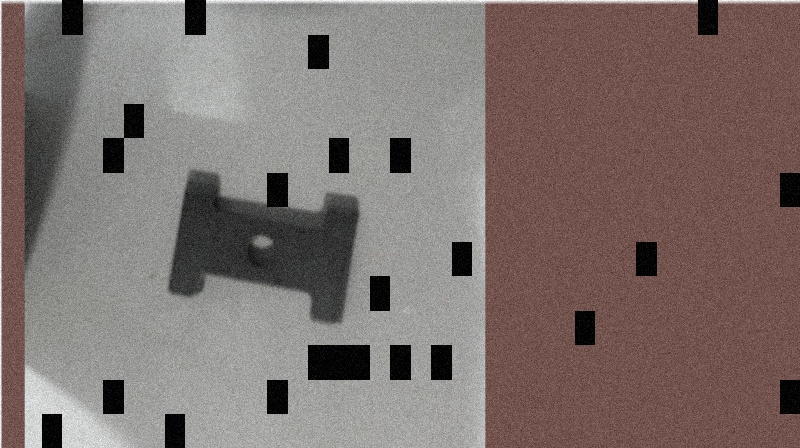O002: (163, 180, 360, 324)
